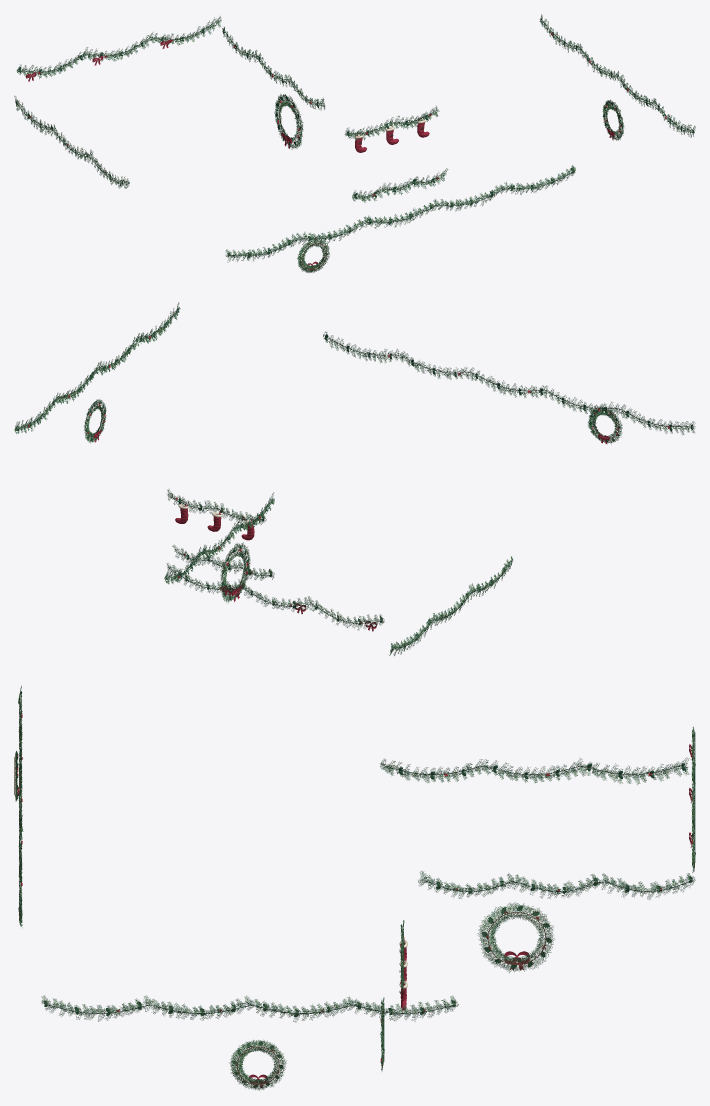
File: christmas-wall-decor.glb
3 views of the same model, one above another, from view 1: azimuth 30°, elevation 25°; view 2: azimuth 150°, elevation 25°; view 3: azimuth 270°, elevation 25° (orthographic). The views are drawn at different scales.
Visible parts, largest first — view 1: WallDecor / Pine needles, WallDecor / Pine tips, WallDecor / Pine shadow, WallDecor / Twig, WallDecor / Holly, WallDecor / Cranberry cloth; view 2: WallDecor / Pine needles, WallDecor / Pine tips, WallDecor / Pine shadow, WallDecor / Twig, WallDecor / Holly, WallDecor / Cranberry cloth; view 3: WallDecor / Pine needles, WallDecor / Pine tips, WallDecor / Pine shadow, WallDecor / Twig, WallDecor / Holly, WallDecor / Cranberry cloth.
Boxes of the visible parts, x1,y1,x2,y2 form: WallDecor / Pine needles: (15,14,694,272); WallDecor / Pine tips: (15,15,695,272); WallDecor / Pine shadow: (15,15,694,272); WallDecor / Twig: (14,15,694,271); WallDecor / Holly: (16,18,693,270); WallDecor / Cranberry cloth: (26,39,614,271); WallDecor / Pine needles: (15,303,694,655); WallDecor / Pine tips: (14,302,695,654); WallDecor / Pine shadow: (15,303,694,655); WallDecor / Twig: (15,304,694,655); WallDecor / Holly: (16,307,692,652); WallDecor / Cranberry cloth: (93,429,609,631); WallDecor / Pine needles: (15,685,695,1089); WallDecor / Pine tips: (15,691,695,1089); WallDecor / Pine shadow: (15,690,695,1090); WallDecor / Twig: (14,688,695,1089); WallDecor / Holly: (17,691,693,1086); WallDecor / Cranberry cloth: (18,744,692,1087).
Bounding box in the file's own units: 16.94 × 4.12 × 15.55.
